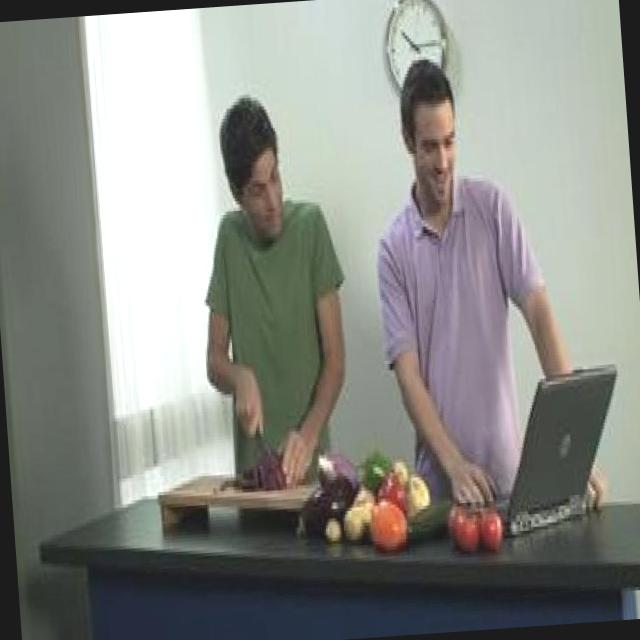no_vest: (361, 182, 553, 480), (207, 199, 344, 456)
